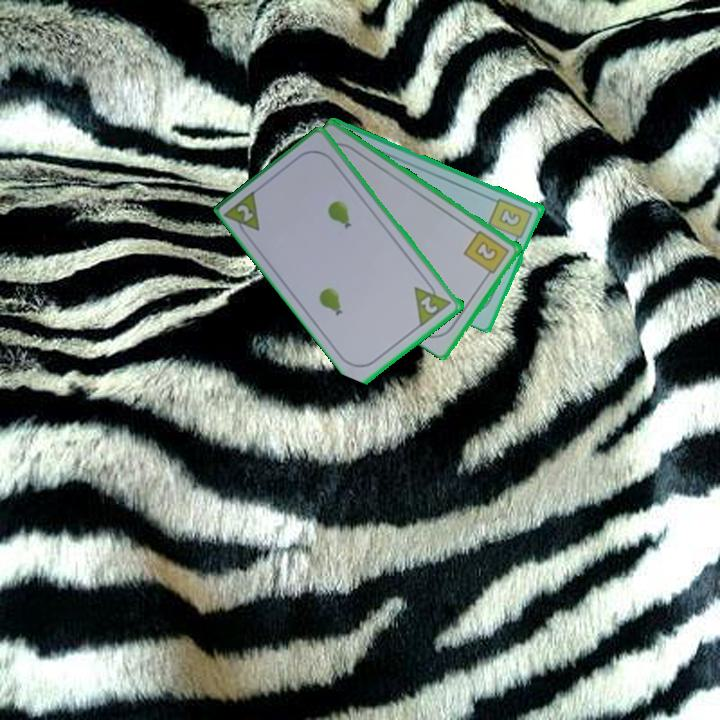2b: (461, 227, 512, 281), (485, 194, 536, 246)
2p: (417, 292, 441, 317), (233, 201, 257, 225)
